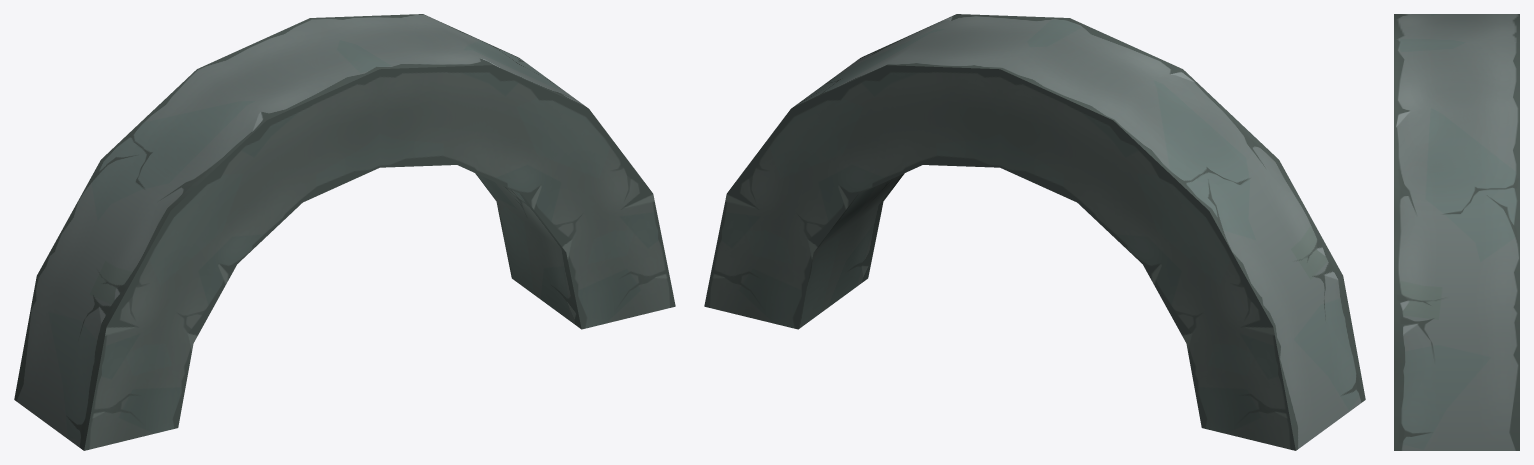
File: Dg_01_StoneObjects_019.FBX
3 renders of one model, left to right at view 1: azimuth 30°, elevation 25°; view 2: azimuth 150°, elevation 25°; view 3: azimuth 270°, elevation 25°, orthographic. The views are drawn at different scales.
Parts seen in each view (by area): view 1: Dg_01_StoneObjects_019; view 2: Dg_01_StoneObjects_019; view 3: Dg_01_StoneObjects_019.
Boxes of the visible parts, left/top/right/bottom form: Dg_01_StoneObjects_019: left=14, top=14, right=675, bottom=450; Dg_01_StoneObjects_019: left=704, top=14, right=1365, bottom=450; Dg_01_StoneObjects_019: left=1394, top=14, right=1519, bottom=450.
Bounding box in the file's own units: 4.4 × 2.2 × 0.9.
